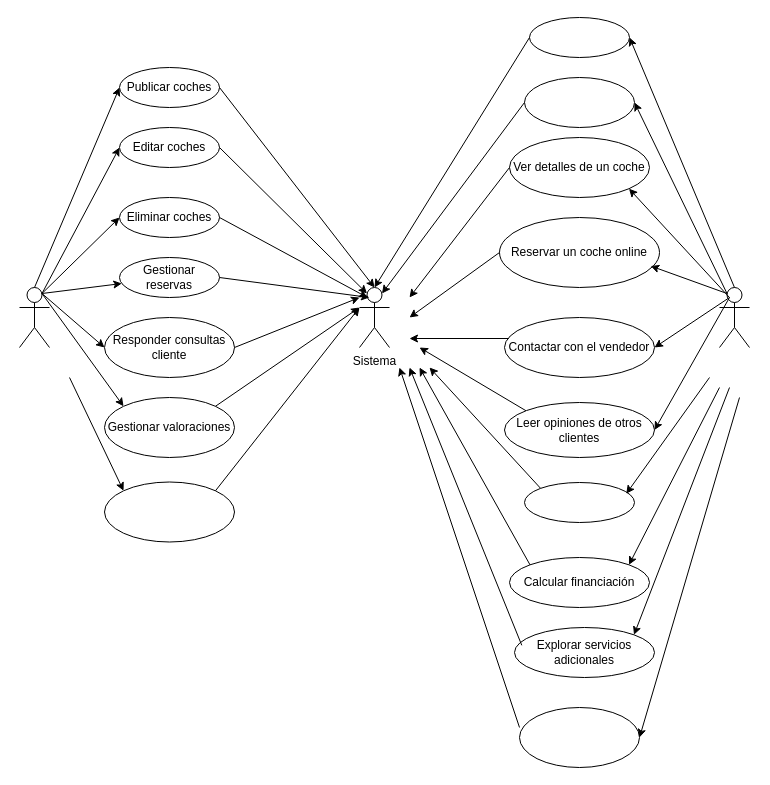
Image size: 770x785. Some labels were removed from this diagram. Each missing label, with the centre of its shape:
"Admin" goes at pixel 34 317.
"Administrar contenido de la web" goes at pixel 169 511.
"Buscar coches" goes at pixel 579 37.
"Cliente" goes at pixel 734 317.
"Comparar vehiculos" goes at pixel 579 502.
"Filtrar coches" goes at pixel 579 102.
"Ver ubicación y horario de la tienda" goes at pixel 579 737.
